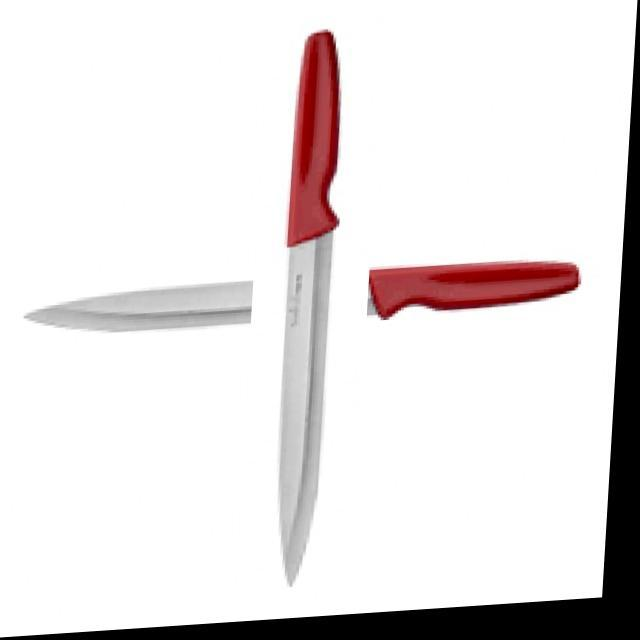knife: (22, 258, 584, 333), (278, 29, 345, 587)
